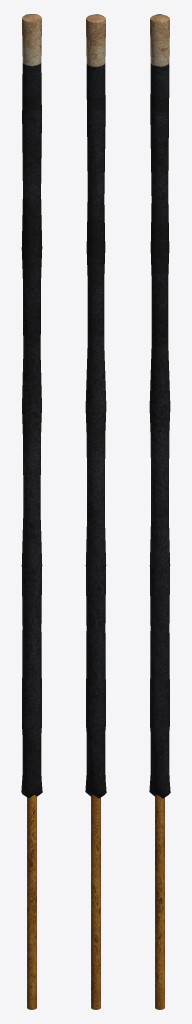
Rendered from incense_stick_02.DAE.
3 views of the same model, side by side, from view 1: azimuth 30°, elevation 25°; view 2: azimuth 150°, elevation 25°; view 3: azimuth 330°, elevation 25° (orthographic).
Parts seen in each view (by area): view 1: incense_stick_02; view 2: incense_stick_02; view 3: incense_stick_02.
Part boxes in pixels (bbox=[...]): incense_stick_02: bbox=[21, 14, 42, 1009]; incense_stick_02: bbox=[85, 14, 106, 1009]; incense_stick_02: bbox=[149, 14, 170, 1009].
Bounding box in the file's own units: 0.6782 × 34.99 × 0.6509.
